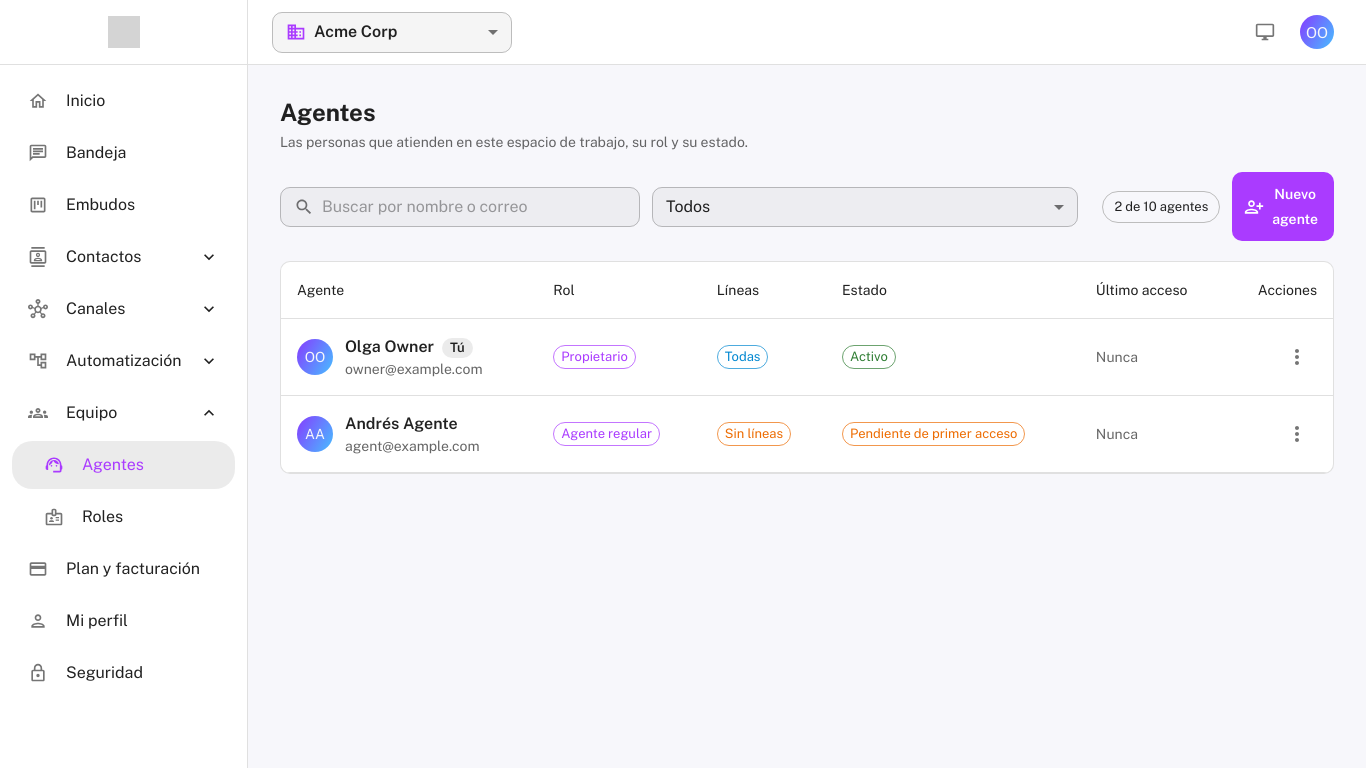
Test: Team: members › lists agents with their role, status and the plan usage
Expected: the text "Andrés Agente" is shown, [345, 414, 458, 433]
Expected: the text "Agente regular" is shown, [554, 424, 659, 444]
On your own row you can only pick your lines.
Step 1. Click the button named "Acciones para Olga Owner" → (1297, 357), box [1277, 337, 1317, 377]
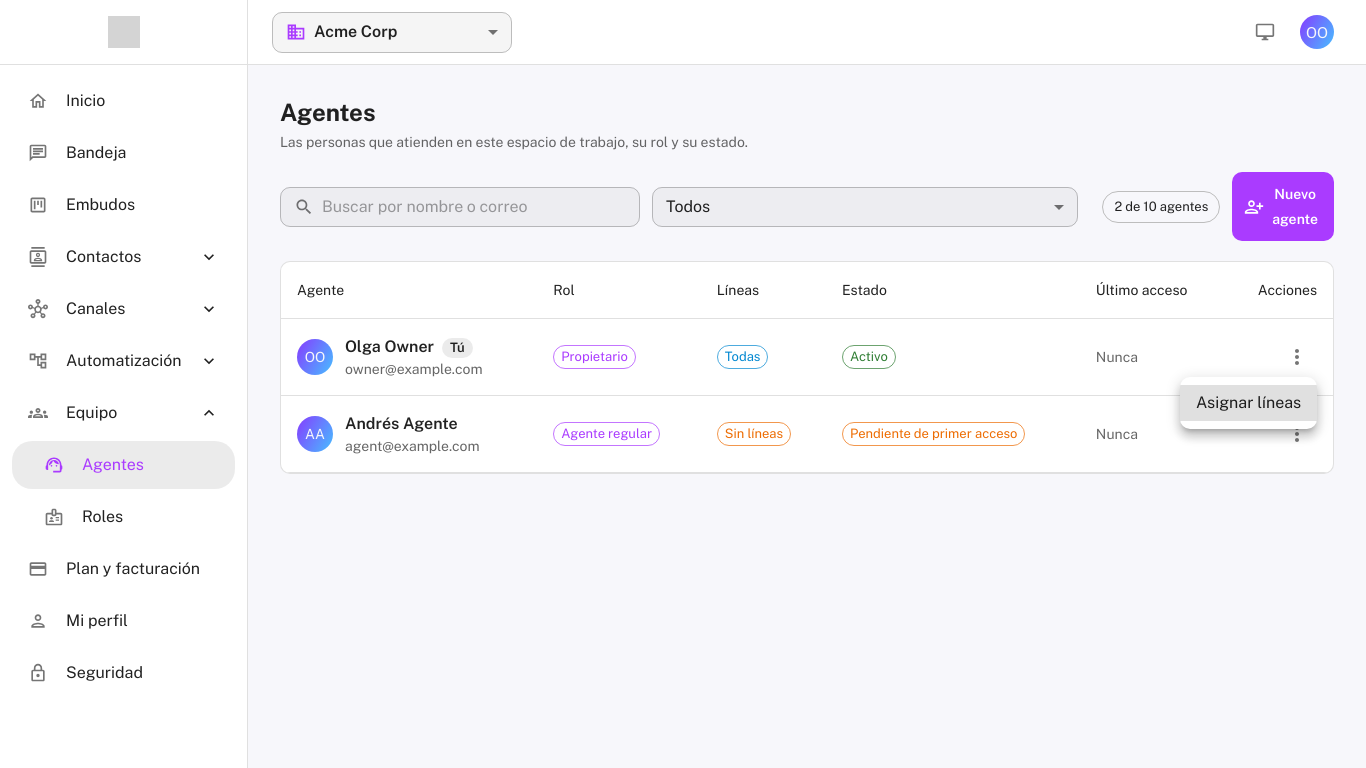
Result: the menu items read "Asignar líneas", in this order at [1180, 385, 1317, 421]
